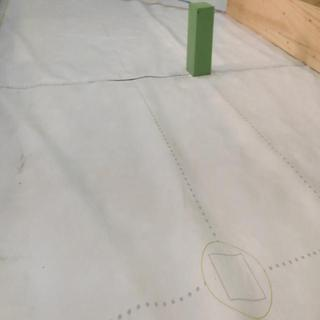greenbox: (185, 3, 217, 76)
